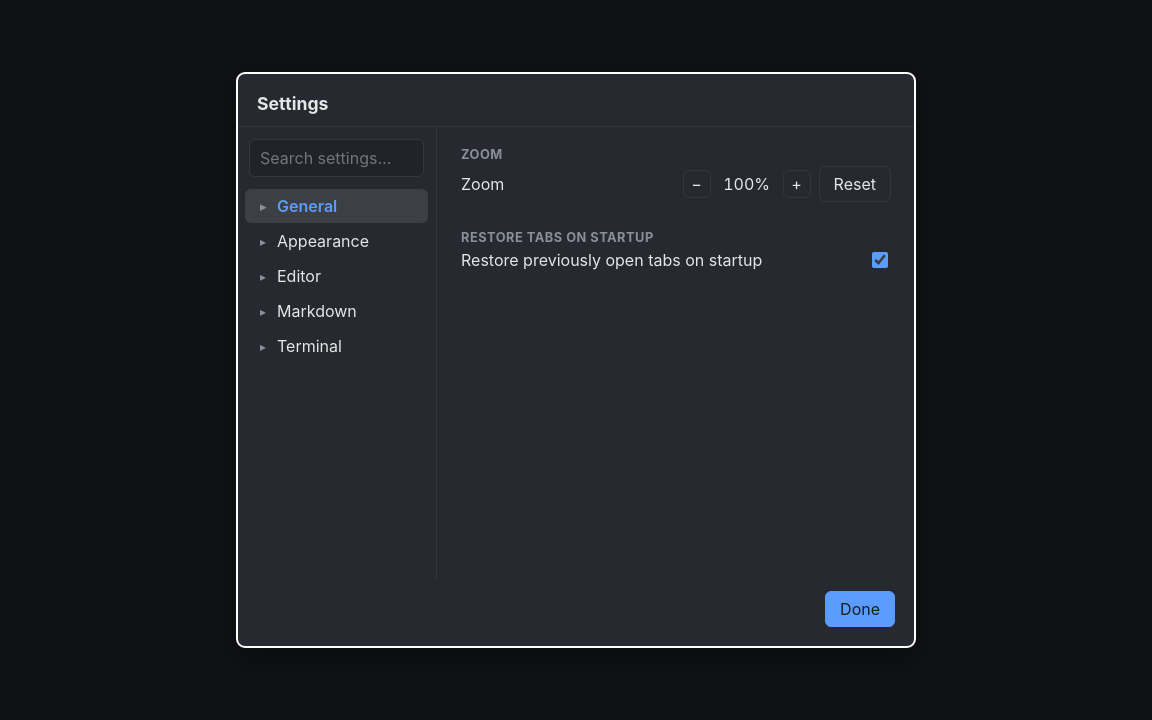
Test: SettingsDialog › category caret vs. text click targets › renders subcategory labels visibly smaller than master-category labels
Click the button named "Expand General". click: (263, 206)
box: x1=253 y1=196 x2=273 y2=216
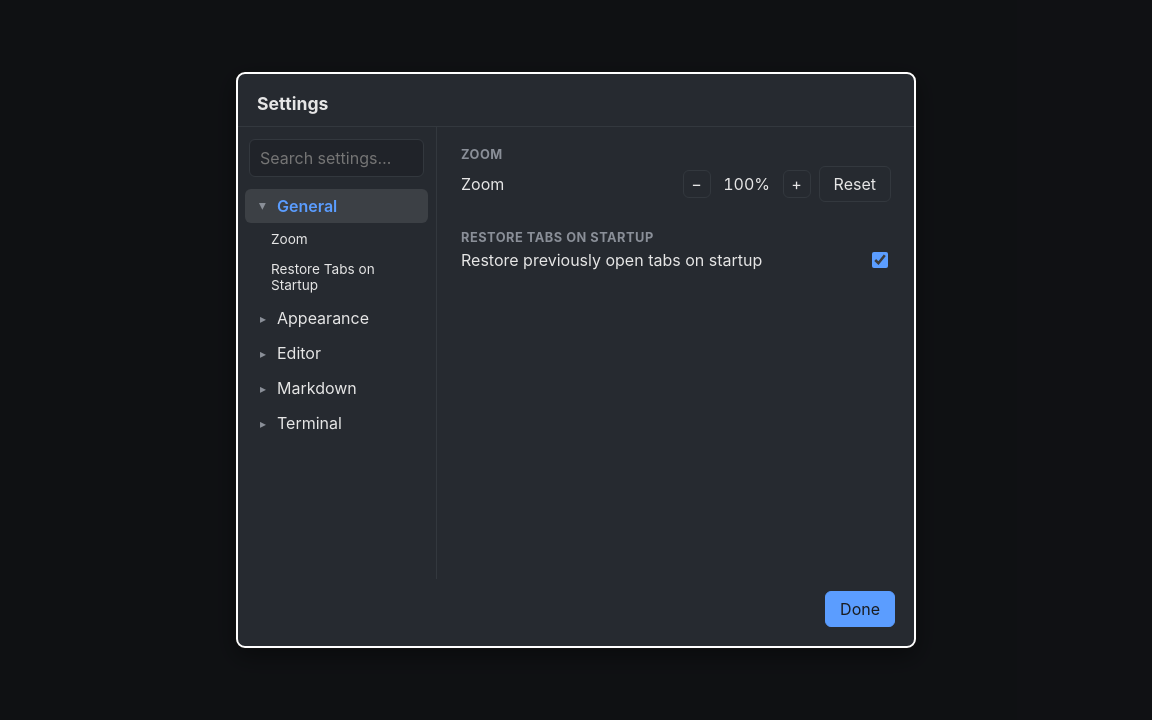
Expected: the list item with class "settings-nav-category" showing "▸ General" is shown, x1=245 y1=189 x2=428 y2=223
Expected: the list item with class "settings-nav-section" showing "Zoom" is shown, x1=271 y1=231 x2=308 y2=247
